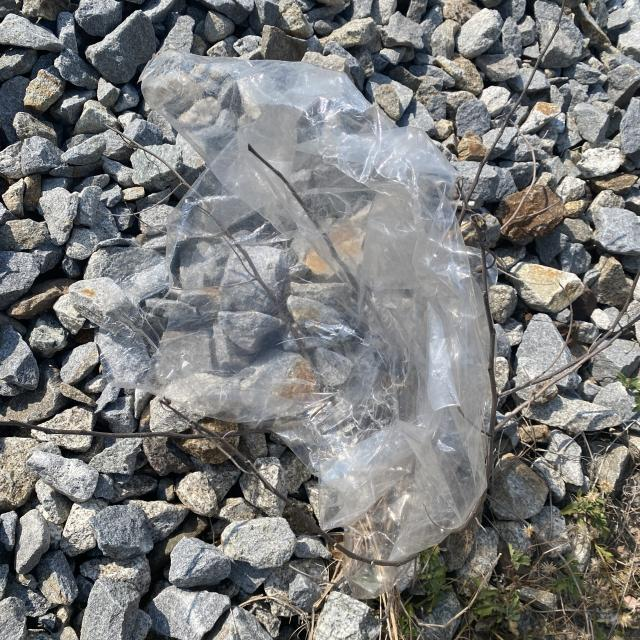Single-layer Plastic: (90, 51, 491, 560)
